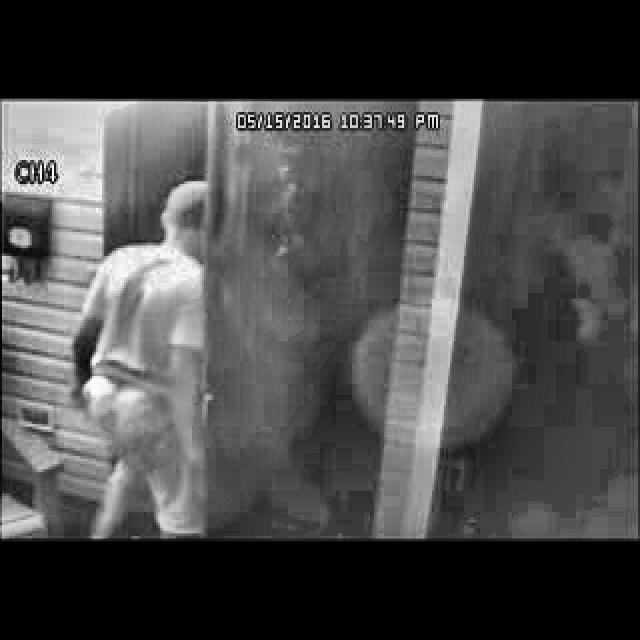burglary: (62, 175, 268, 540)
